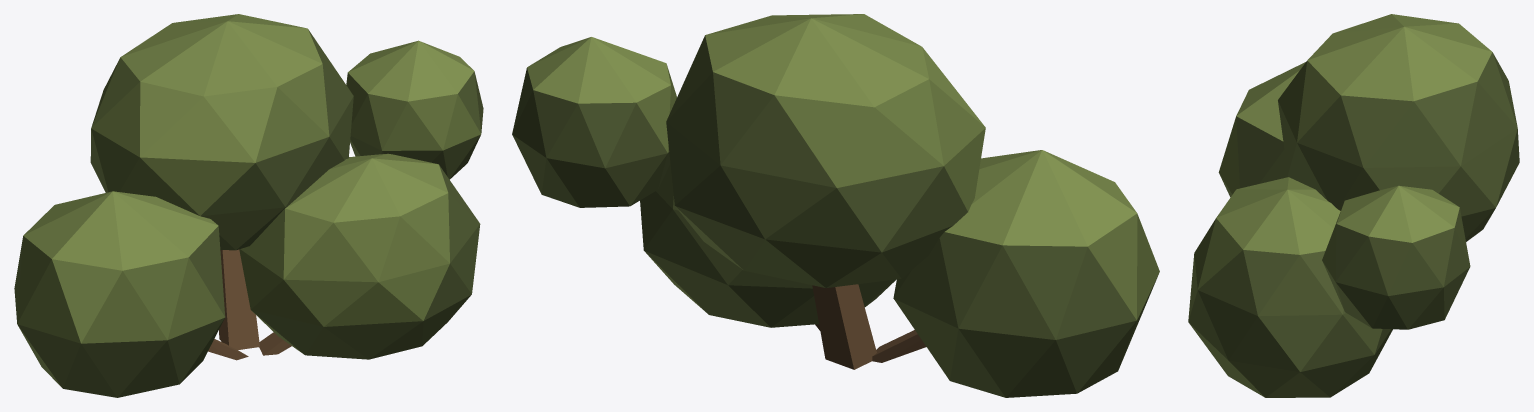
File: shrub_dry.glb
The picture shows the model from 3 angles, left to right: view 1: azimuth 30°, elevation 25°; view 2: azimuth 150°, elevation 25°; view 3: azimuth 270°, elevation 25°; orthographic projection. The views are drawn at different scales.
Visible parts, largest first — view 1: shrub_dry; view 2: shrub_dry; view 3: shrub_dry.
Boxes of the visible parts, x1,y1,x2,y2 form: shrub_dry: [14, 14, 483, 397]; shrub_dry: [512, 14, 1159, 397]; shrub_dry: [1188, 14, 1519, 397].
Bounding box in the file's own units: 1 × 0.5877 × 0.5717.
